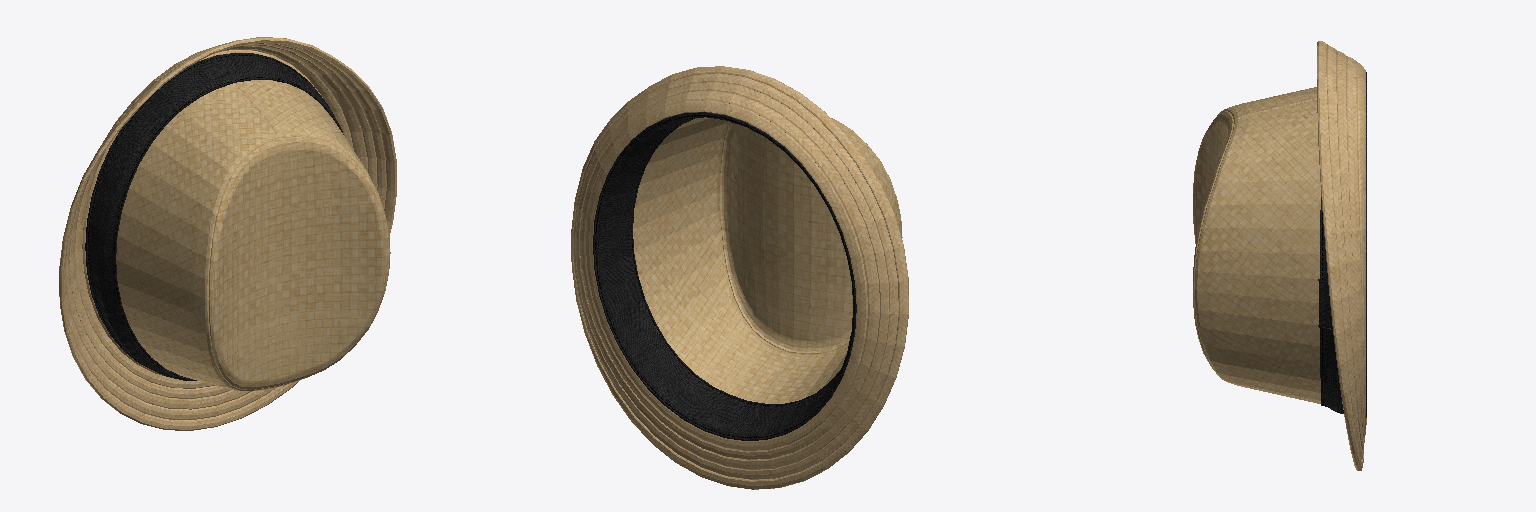
3 renders of one model, left to right at view 1: azimuth 30°, elevation 25°; view 2: azimuth 150°, elevation 25°; view 3: azimuth 270°, elevation 25°, orthographic.
Visible parts, largest first — view 1: Base_out_pivot, Pent_pivot, Fabric_pivot; view 2: Base_In_pivot, Pent_pivot, Fabric_pivot, Base_out_pivot, Seams_pivot; view 3: Base_out_pivot, Pent_pivot, Fabric_pivot.
Boxes of the visible parts, <box> form: Base_out_pivot: <box>116,80,390,391</box>; Pent_pivot: <box>59,37,396,430</box>; Fabric_pivot: <box>85,53,343,380</box>; Base_In_pivot: <box>633,117,852,403</box>; Pent_pivot: <box>571,66,908,489</box>; Fabric_pivot: <box>593,112,856,440</box>; Base_out_pivot: <box>720,118,902,237</box>; Seams_pivot: <box>595,115,854,437</box>; Base_out_pivot: <box>1193,87,1320,403</box>; Pent_pivot: <box>1317,41,1366,470</box>; Fabric_pivot: <box>1318,72,1366,417</box>.
Bounding box in the file's own units: 22.89 × 25.98 × 10.28.
4 materials, 3 textured.